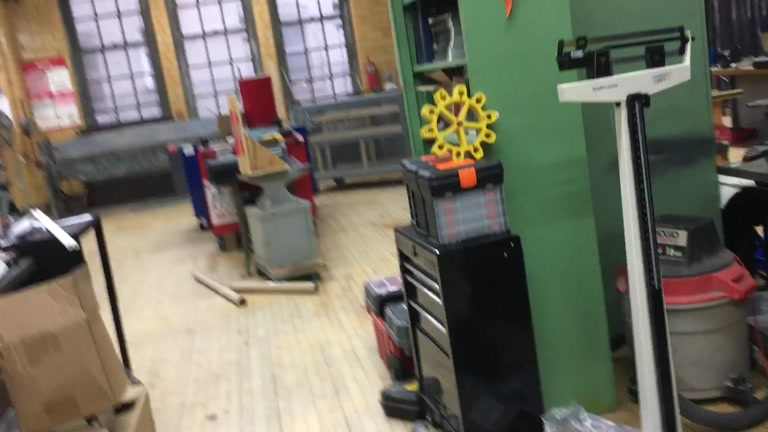gear: (419, 84, 500, 164)
